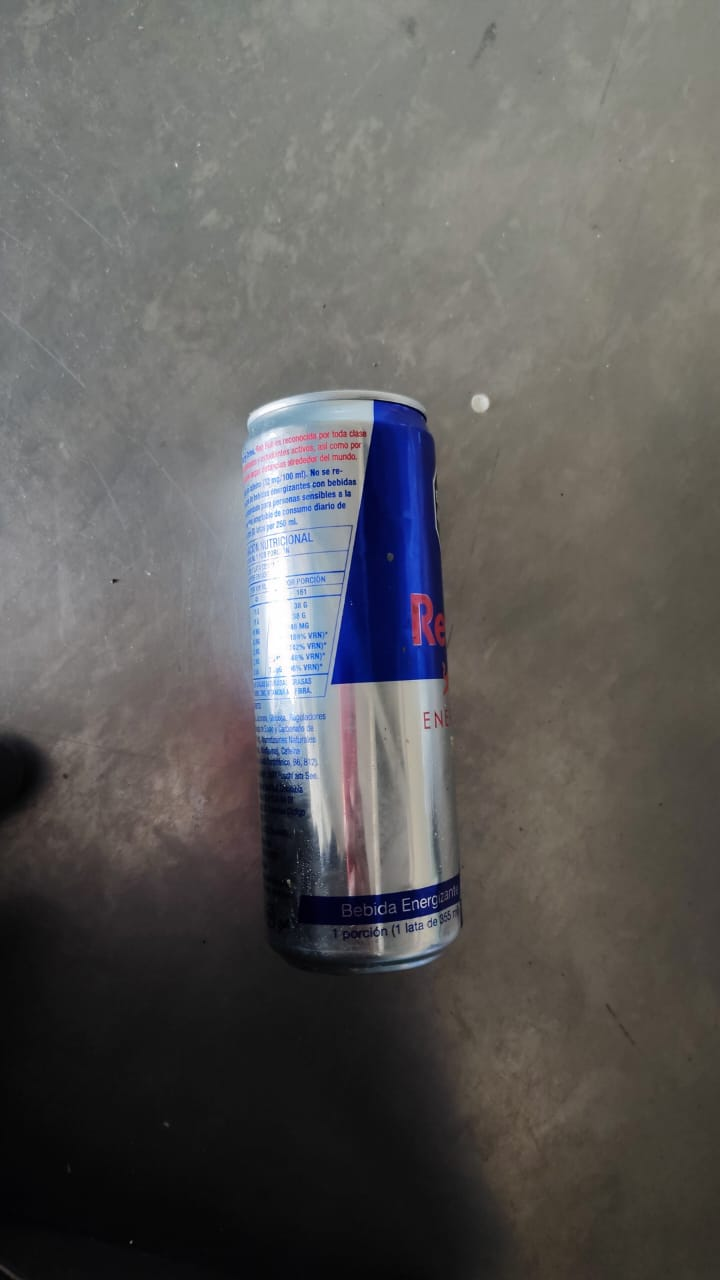Metal: (237, 387, 457, 973)
